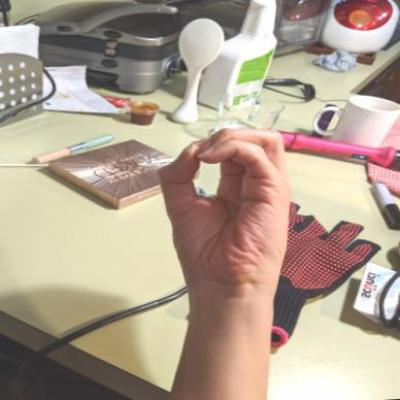hand: (149, 121, 304, 303)
